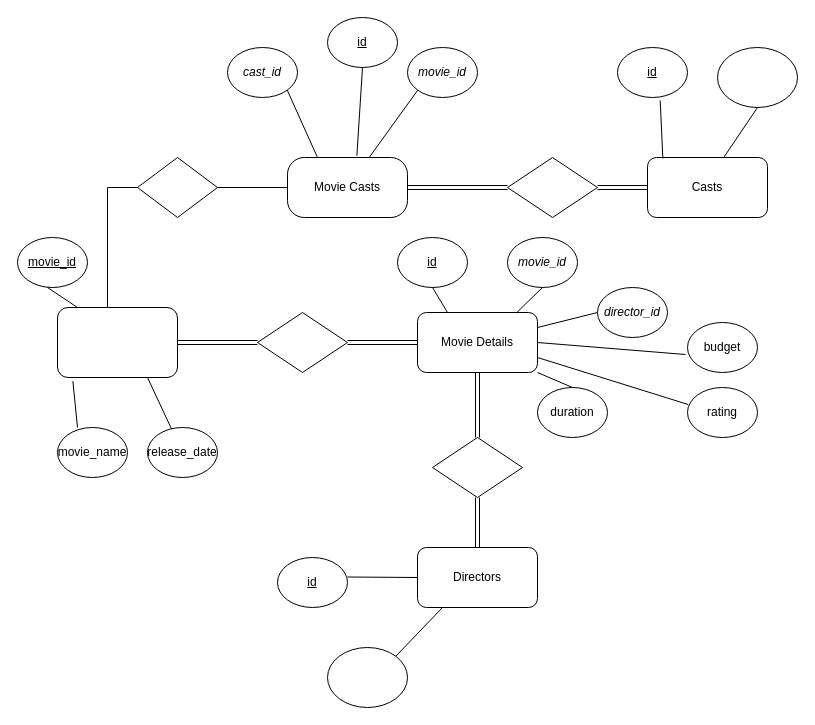
Image size: 815x725. Some labels were removed from this diagram. Here are the shapes that lost their labels. From the top down, the box of each, then its label:
(716, 46, 798, 108): cast_name
(136, 156, 218, 218): includes
(506, 156, 598, 218): part of
(56, 306, 178, 378): Movies
(256, 312, 348, 372): has deaails
(432, 436, 522, 498): directs
(326, 646, 408, 708): director_name
